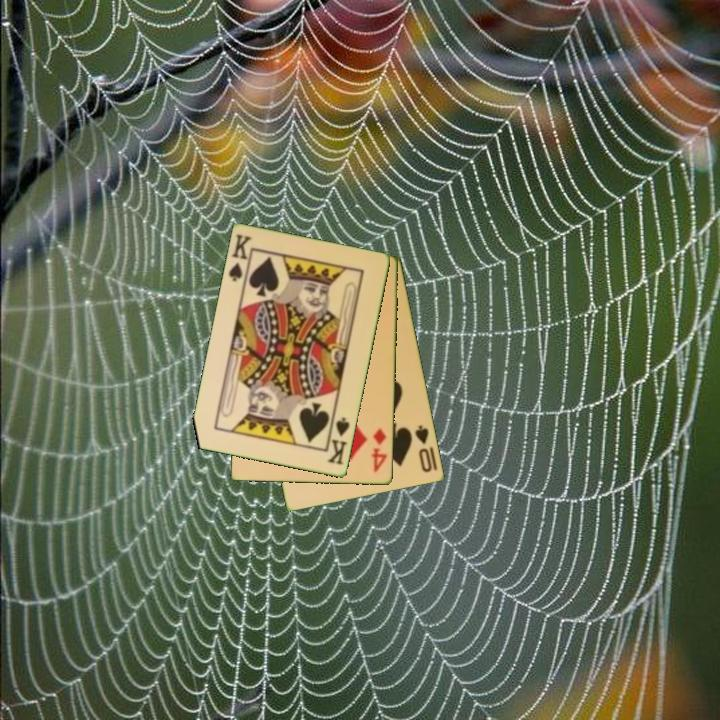10s: (412, 422, 435, 475)
4d: (368, 425, 390, 476)
Ks: (225, 231, 255, 288), (324, 413, 353, 468)
